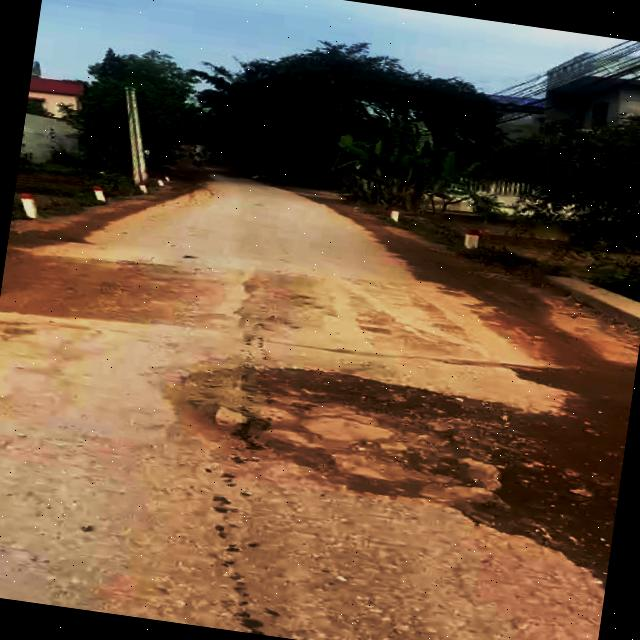pothole: (144, 342, 613, 556)
